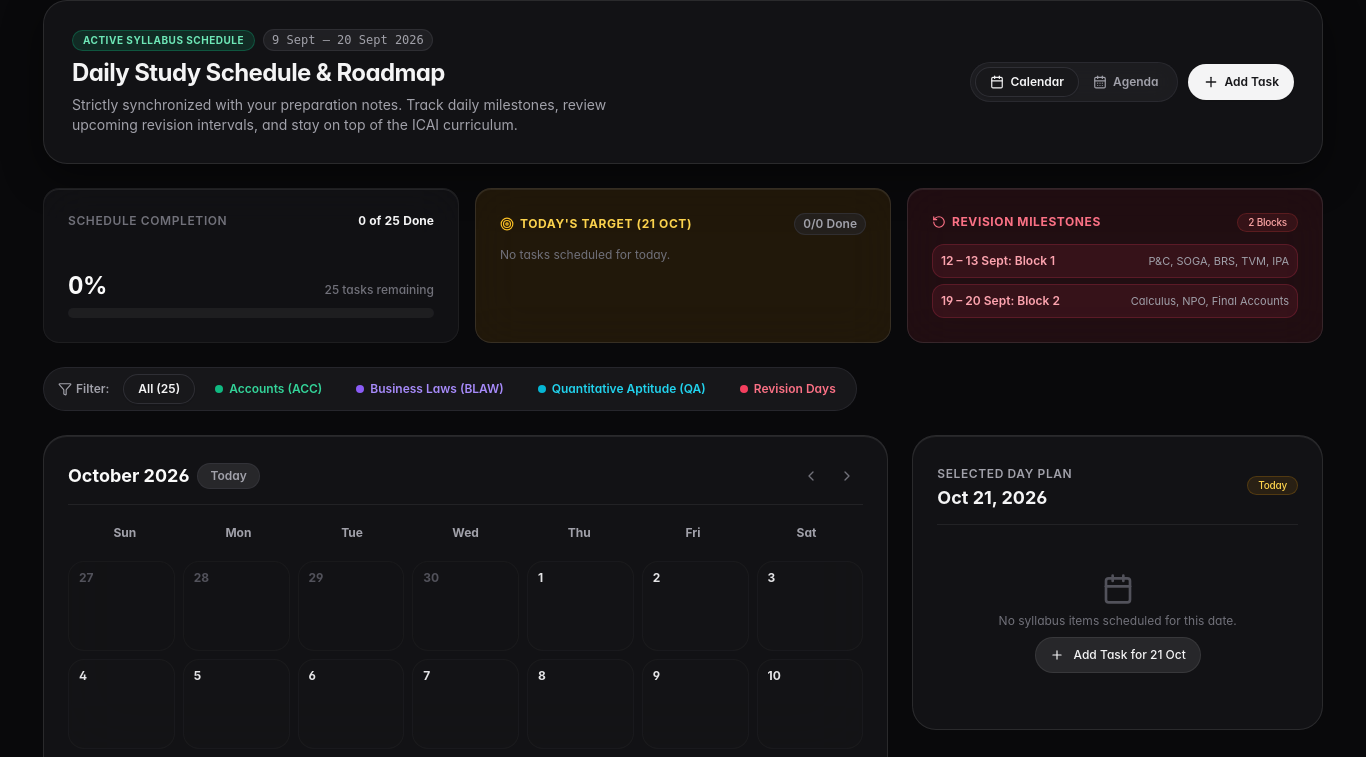
Study Schedule & Interactive Calendar Integration › ScheduleView UI Component › allows filtering by subject tabs
// Switch to agenda view for easy row inspection
Click the button "Agenda": coordinates (1126, 82) [1079,68,1173,96]
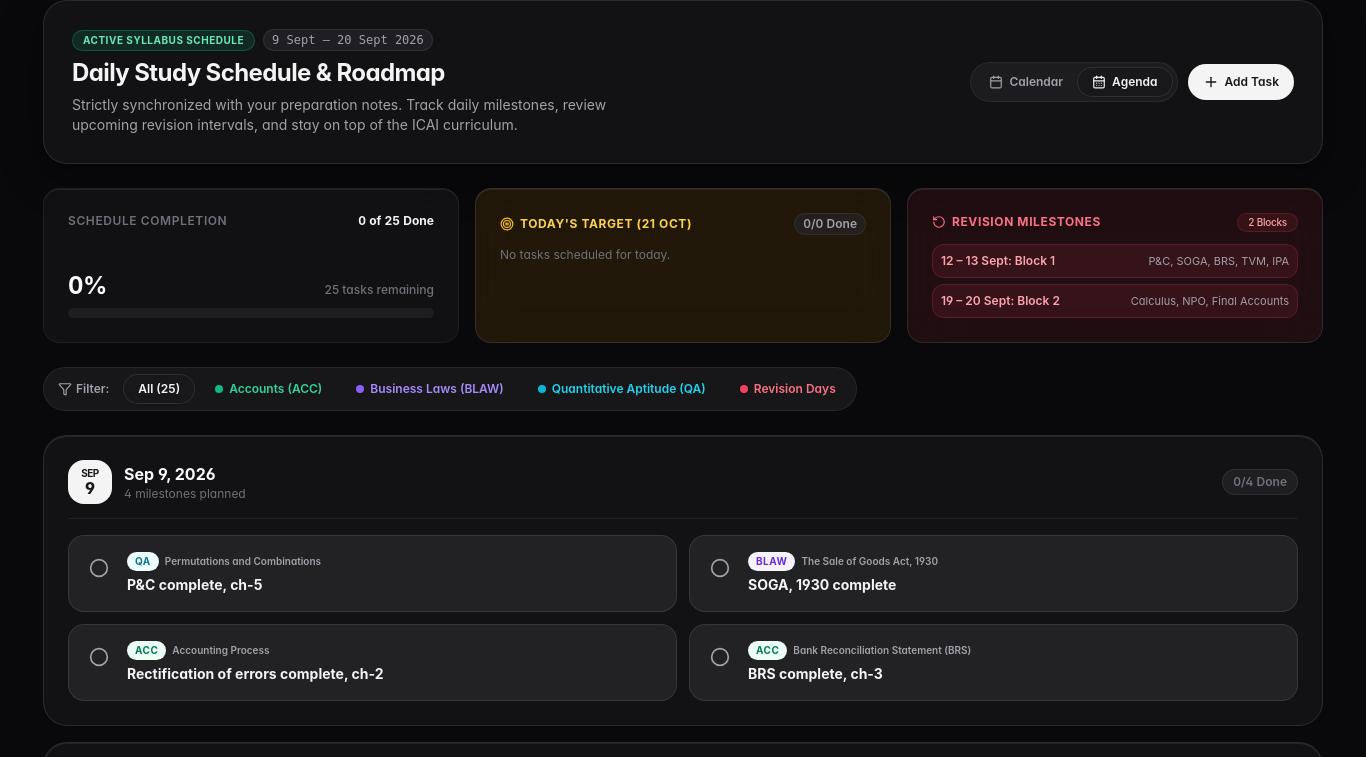
// Filter by Accounts
Click the button "Accounts (ACC)": coordinates (269, 388) [201,374,336,402]
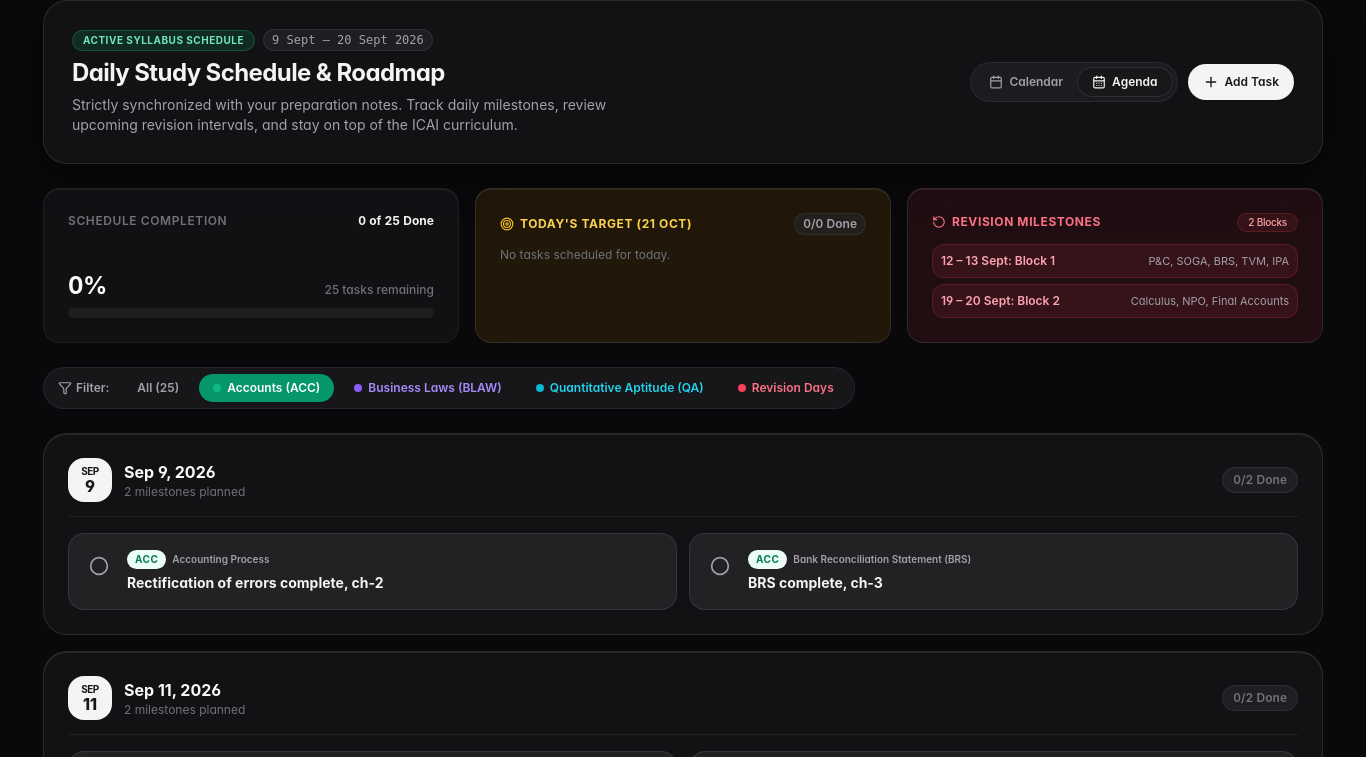
Now the heading "Rectification of errors complete, ch-2" is shown, box [127,574,384,590]
Now the heading "BRS complete, ch-3" is shown, box [748,574,883,590]
// Filter by Revision Days
Click the button "Revision Days": coordinates (786, 388) [724,374,848,402]
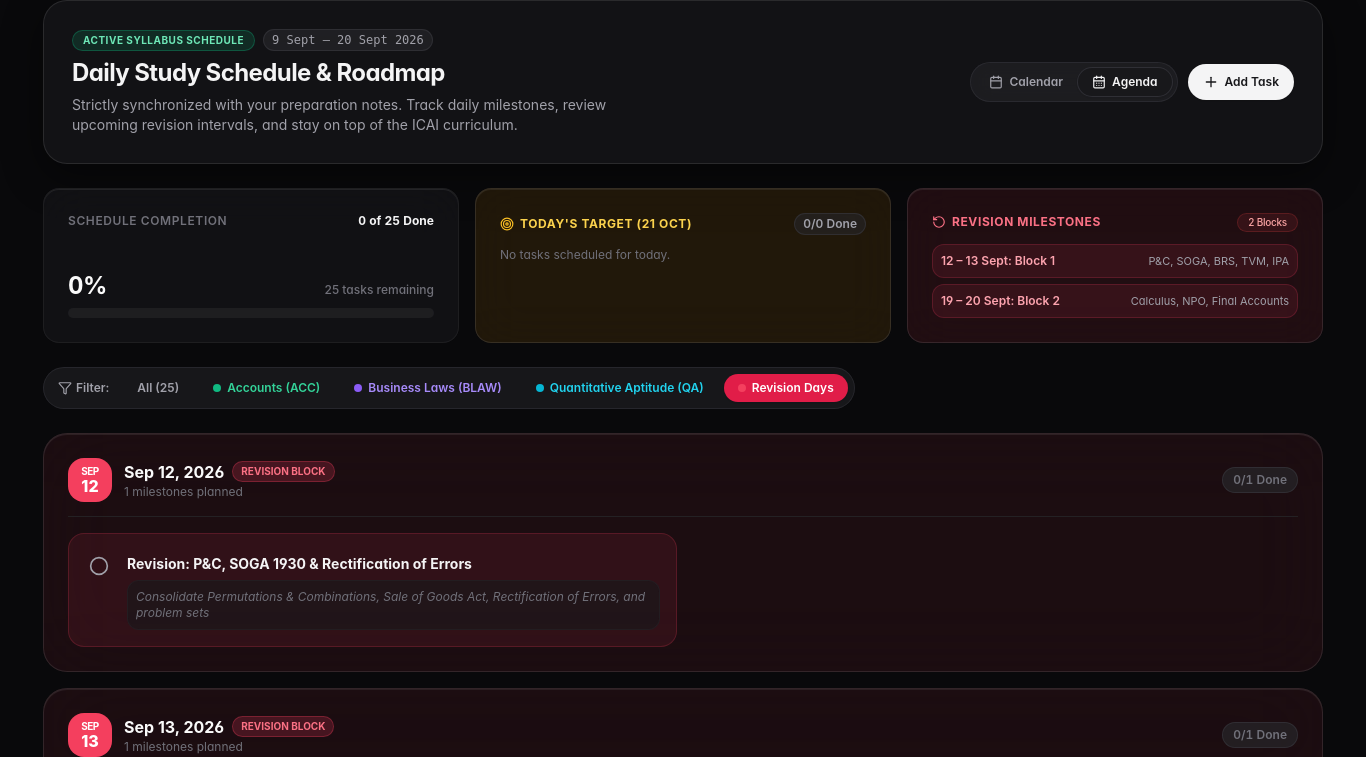
Now the heading "Revision: P&C, SOGA 1930 & Rectification of Errors" is shown, box [127,554,472,572]
